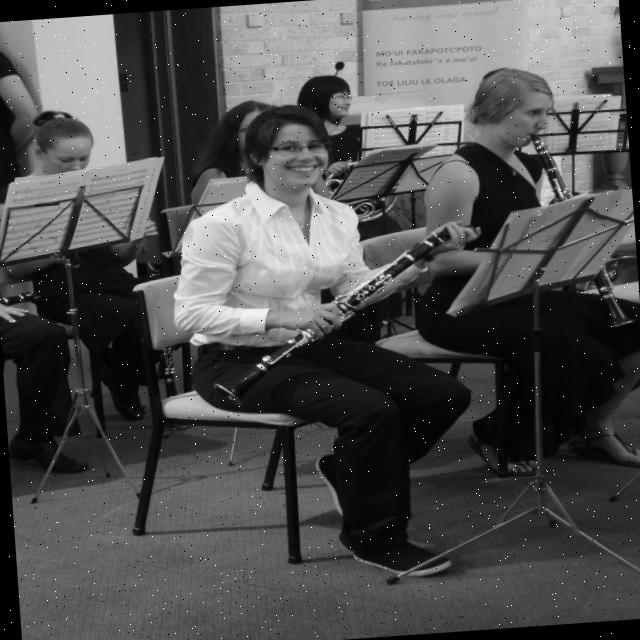clarinet: (200, 218, 473, 408), (526, 125, 640, 337)
